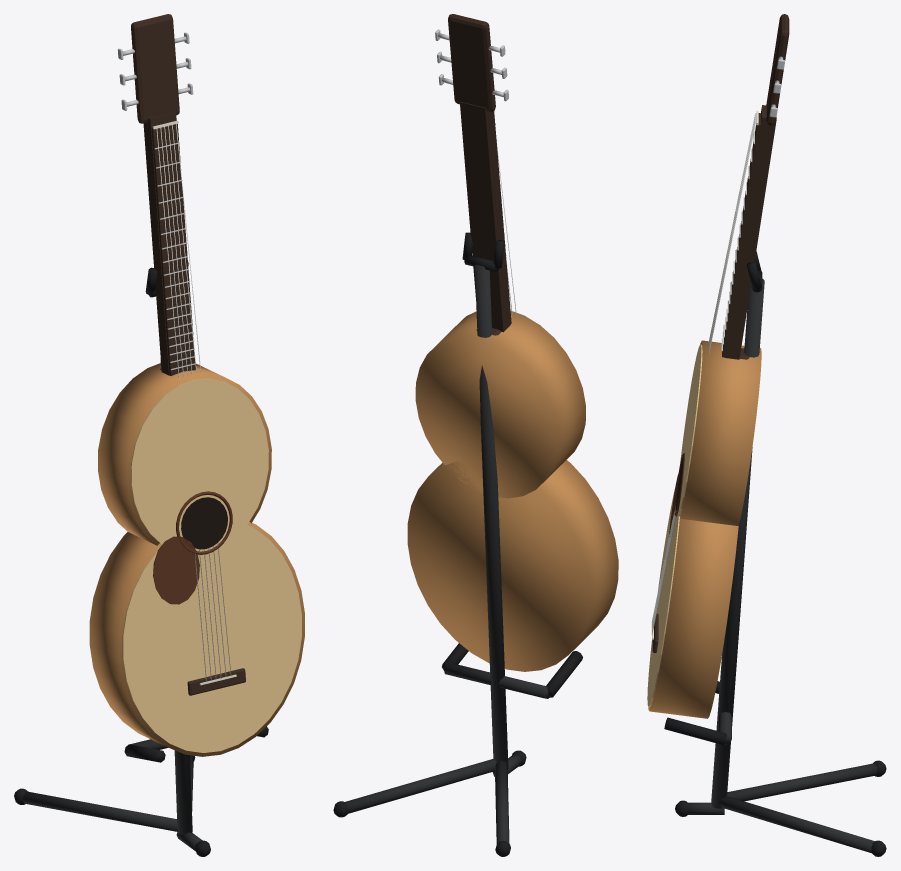
File: guitarAcoustic.glb
3 renders of one model, left to right at view 1: azimuth 30°, elevation 25°; view 2: azimuth 150°, elevation 25°; view 3: azimuth 270°, elevation 25°, orthographic. The views are drawn at different scales.
Visible parts, largest first — view 1: guitar, stand; view 2: guitar, stand; view 3: guitar, stand.
Part boxes in pixels (x1,y1,x2,y2): guitar: (89,14,304,756); stand: (14,262,268,856); guitar: (407,14,618,671); stand: (333,232,582,856); guitar: (647,14,789,718); stand: (664,251,886,856).
Bounding box in the file's own units: 0.36 × 1.48 × 0.4045.
